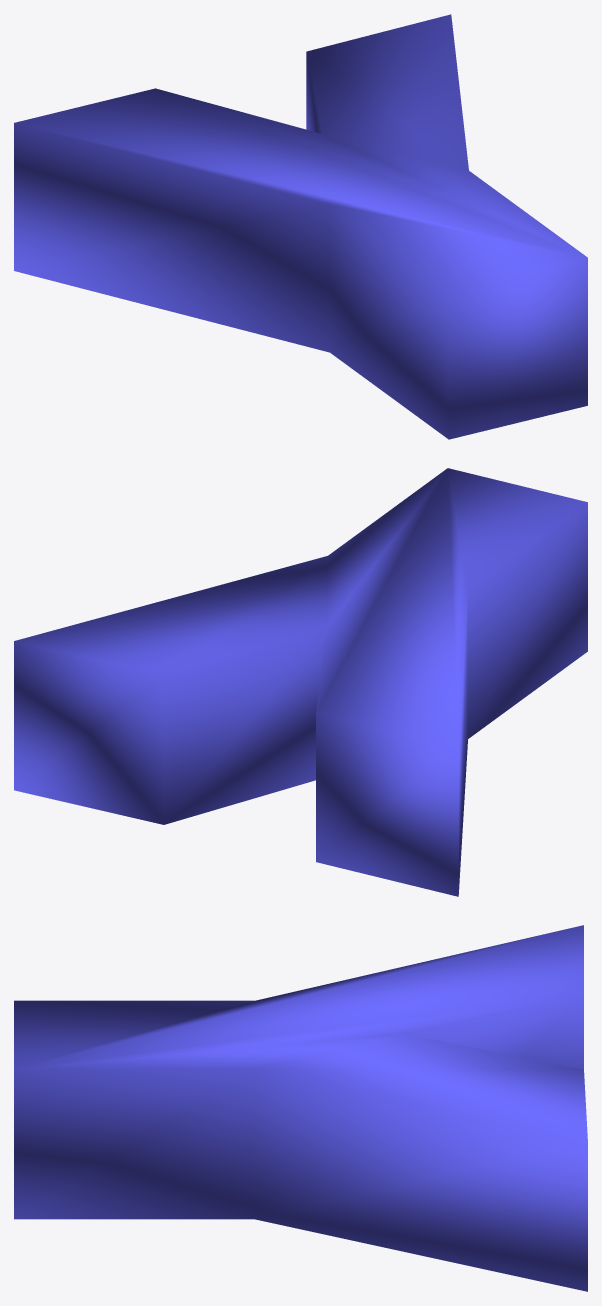
3 renders of one model, top to bottom at view 1: azimuth 30°, elevation 25°; view 2: azimuth 150°, elevation 25°; view 3: azimuth 270°, elevation 25°, orthographic.
Visible parts, largest first — view 1: Y1; view 2: Y1; view 3: Y1.
Boxes of the visible parts, <box> form: Y1: <box>14,14,587,439</box>; Y1: <box>14,468,587,896</box>; Y1: <box>14,925,587,1291</box>.
Bounding box in the file's own units: 18.33 × 5.91 × 20.5.
